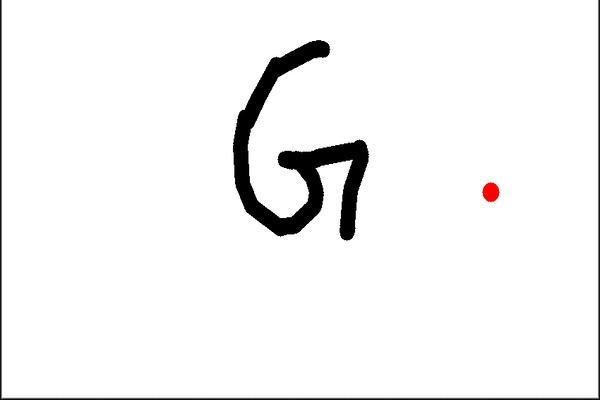G: (224, 35, 374, 249)
